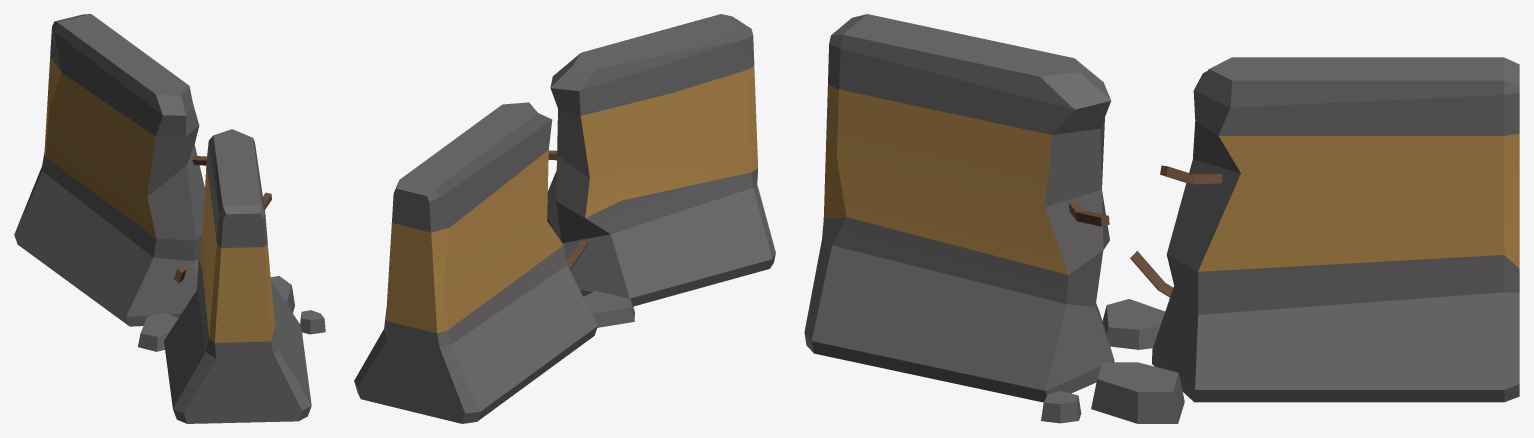
Rendered from SM_Prop_Barrier_Concrete_Broken_01.obj.
3 renders of one model, left to right at view 1: azimuth 30°, elevation 25°; view 2: azimuth 150°, elevation 25°; view 3: azimuth 270°, elevation 25°, orthographic. The views are drawn at different scales.
Visible parts, largest first — view 1: SM_Prop_Barrier_Concrete_Broken_01_0; view 2: SM_Prop_Barrier_Concrete_Broken_01_0; view 3: SM_Prop_Barrier_Concrete_Broken_01_0.
Part boxes in pixels (x1,y1,x2,y2): SM_Prop_Barrier_Concrete_Broken_01_0: (14,14,325,423); SM_Prop_Barrier_Concrete_Broken_01_0: (354,14,775,423); SM_Prop_Barrier_Concrete_Broken_01_0: (804,14,1519,423).
Size of the model in its own units: 0.9266 by 0.9029 by 1.98.
1 material, 1 textured.
